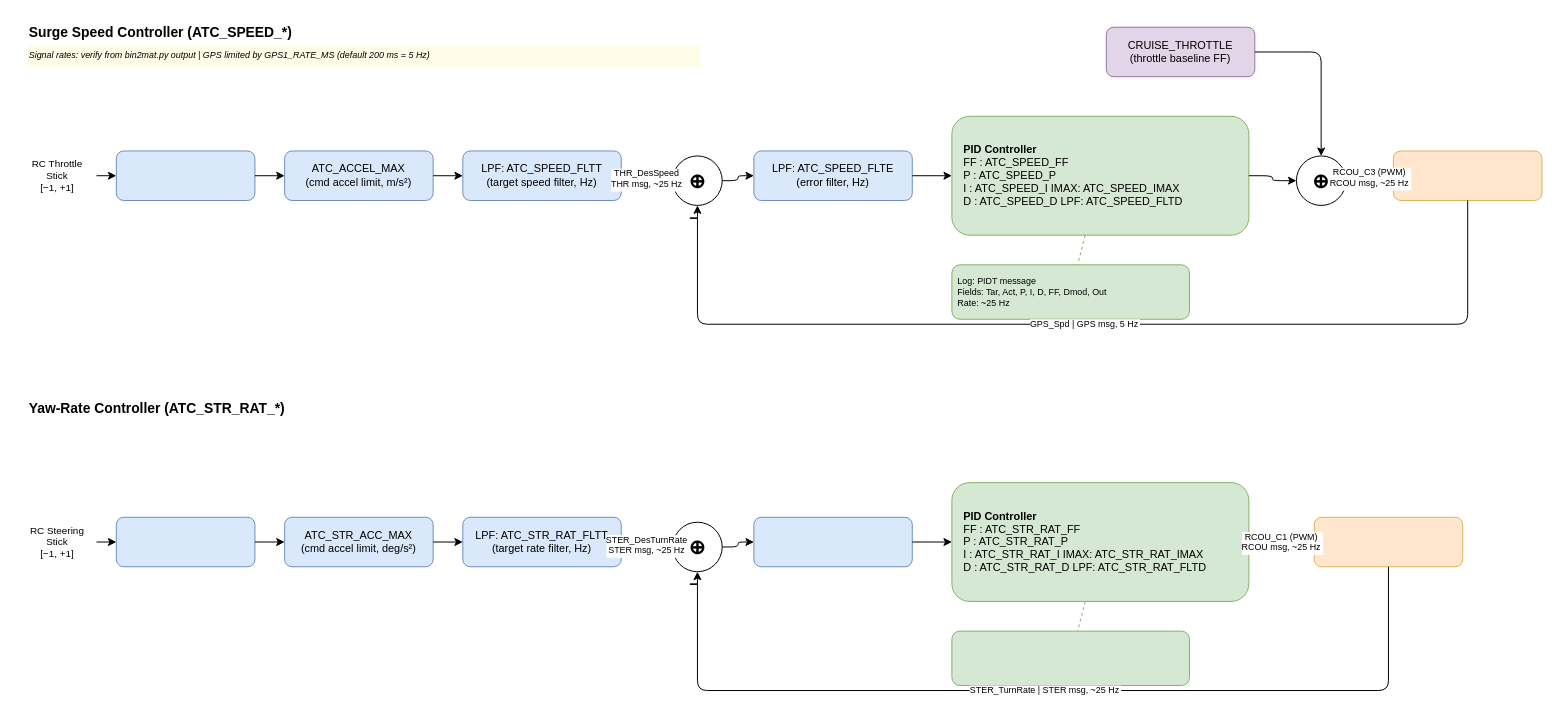
Some shapes in this 1559 by 716 pixel diagram are drawn without their labels. Each missing label, with the box of its shape:
Log: PIDS message Fields: Tar, Act, P, I, D, FF, Dmod, Out Rate: ~25 Hz: (951, 630, 1189, 686)
LPF: ATC_STR_RAT_FLTE (error filter, Hz): (753, 516, 912, 567)
USV Surge Dynamics (thruster + hull): (1392, 150, 1542, 200)
USV Yaw Dynamics (rudder + hull): (1313, 516, 1463, 567)
× ACRO_TURN_RATE [deg/s per unit stick]: (115, 516, 255, 567)
× CRUISE_SPEED [m/s per unit stick]: (115, 150, 255, 200)
